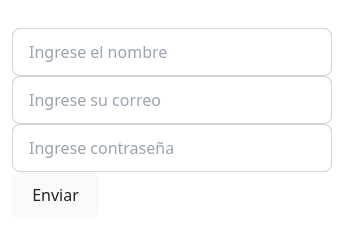
Scenario: Pruebas de ManejoFormulario › Mostrar el mensaje de error en base de datos
Type "Juan" into the field with placeholder "Ingrese el nombre".
click(172, 52); type("Juan")  # box [12,28,332,76]
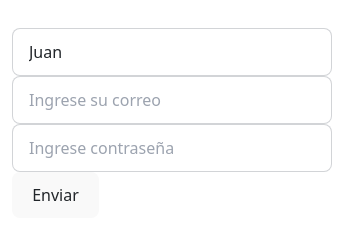
Type "juan@example.com" into the field with placeholder "Ingrese su correo".
click(172, 100); type("juan@example.com")  # box [12,76,332,124]
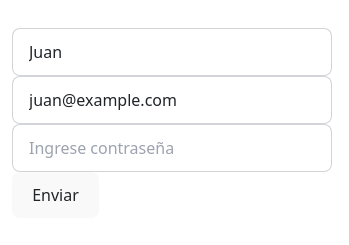
Type "contraseña123" into the password field with placeholder "Ingrese contraseña".
click(172, 148); type("contraseña123")  # box [12,124,332,172]
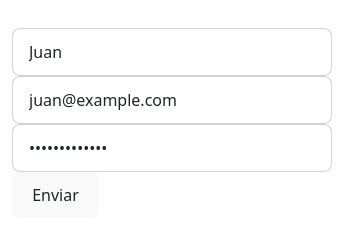
Click the button "Enviar".
click(56, 195)  # box [12,172,99,218]
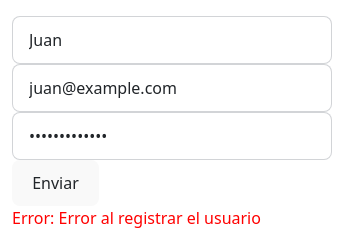
Check: the text "Error: Error al registrar el usuario" is shown, box [12,207,261,229]
